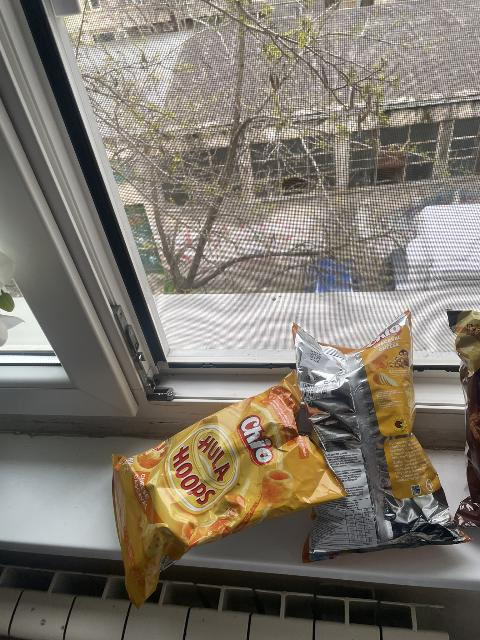Chio Cascaval 125g: (309, 311, 468, 562)
Chio Hula Hoops Cheese 70g: (112, 370, 333, 604)
